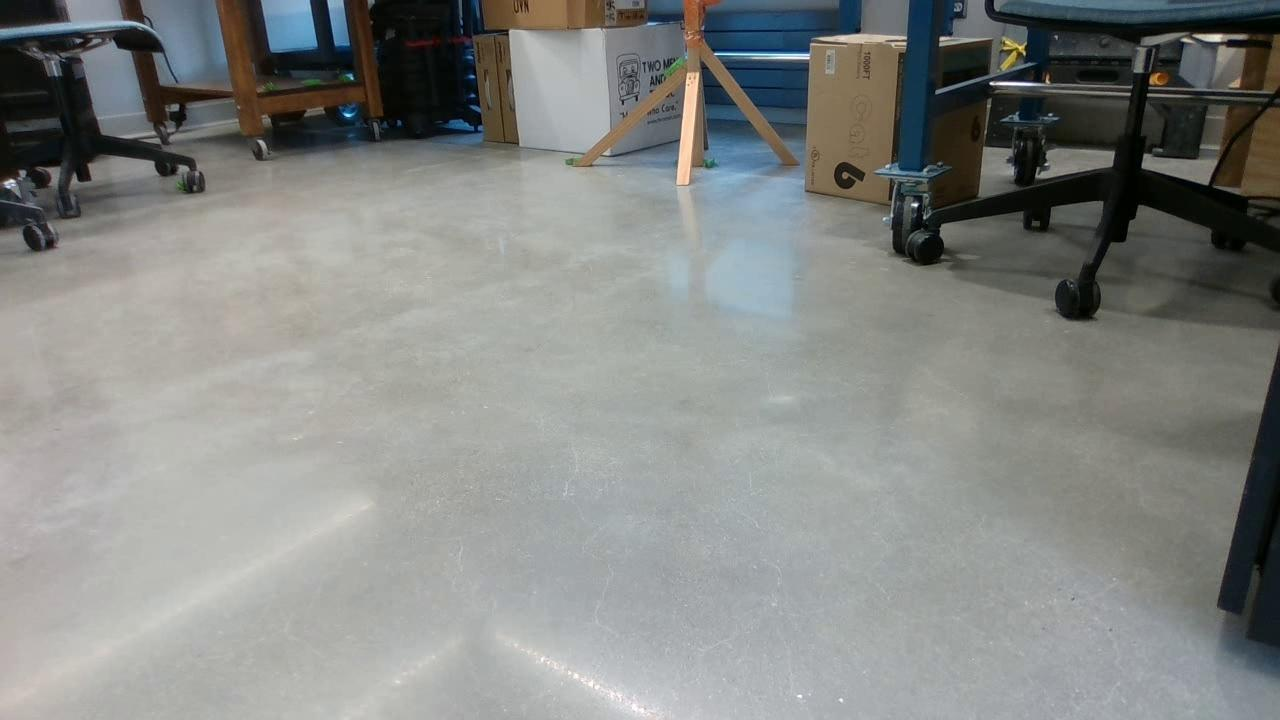grasshopper: (659, 52, 683, 84), (558, 151, 594, 167), (696, 152, 720, 175)
